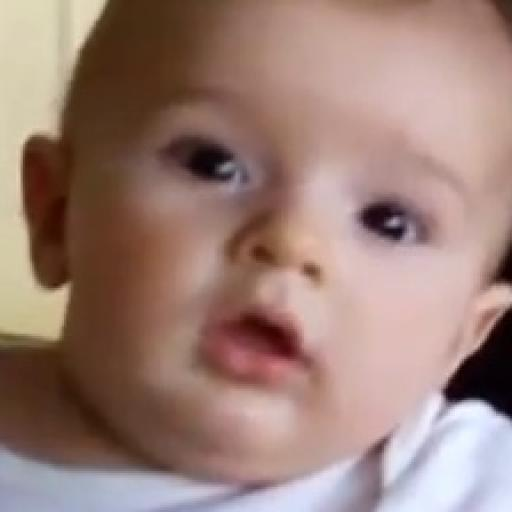Autism: (35, 4, 509, 512)
